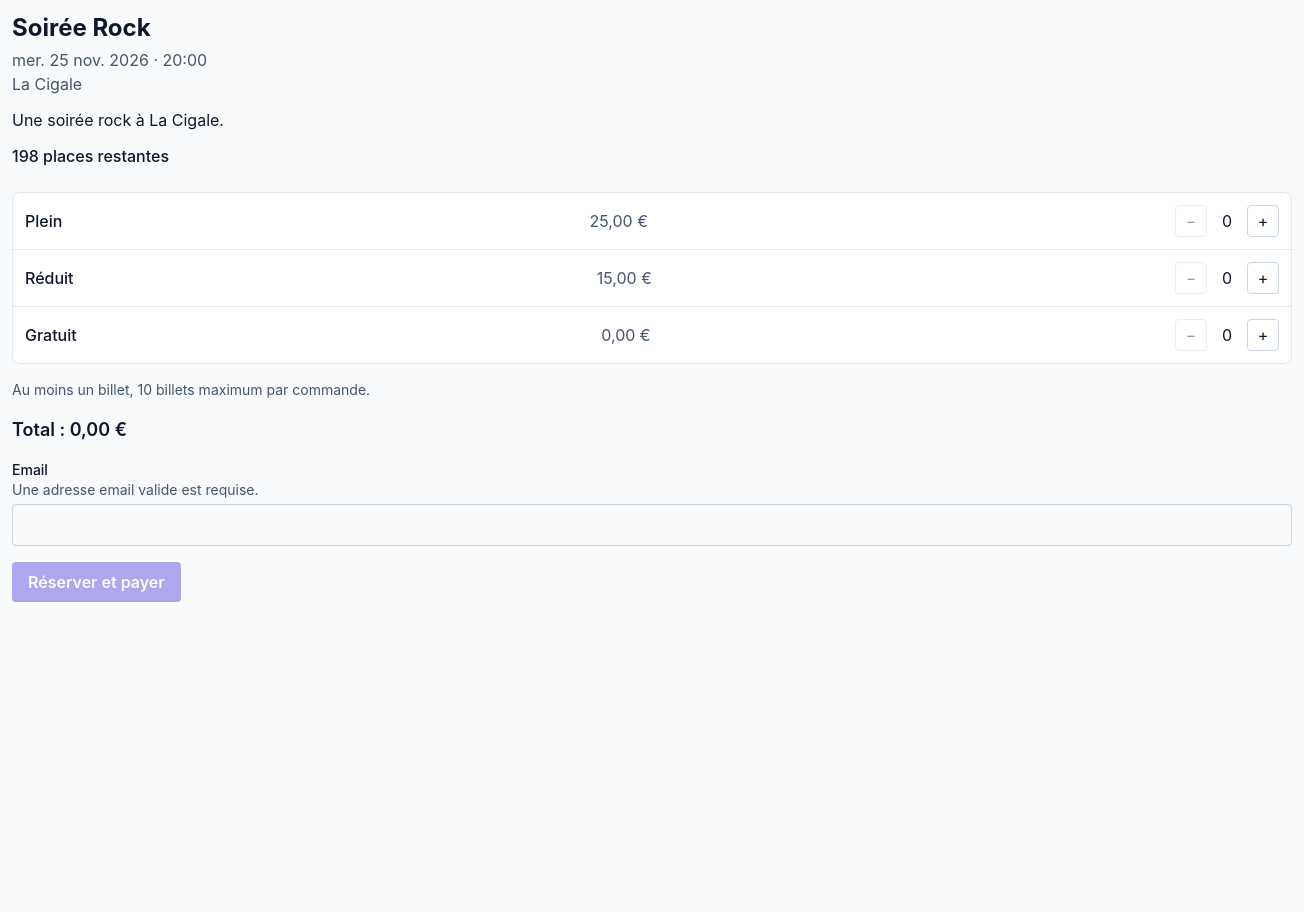
Scenario: EventPage › shows a validation violation under the email field
This screenshot has width=1304, height=912.
Expected: the heading "Soirée Rock" is shown, 12,13 -> 151,42
Click the button named "Ajouter un billet Plein": x=1263, y=221 1247,205 -> 1279,237
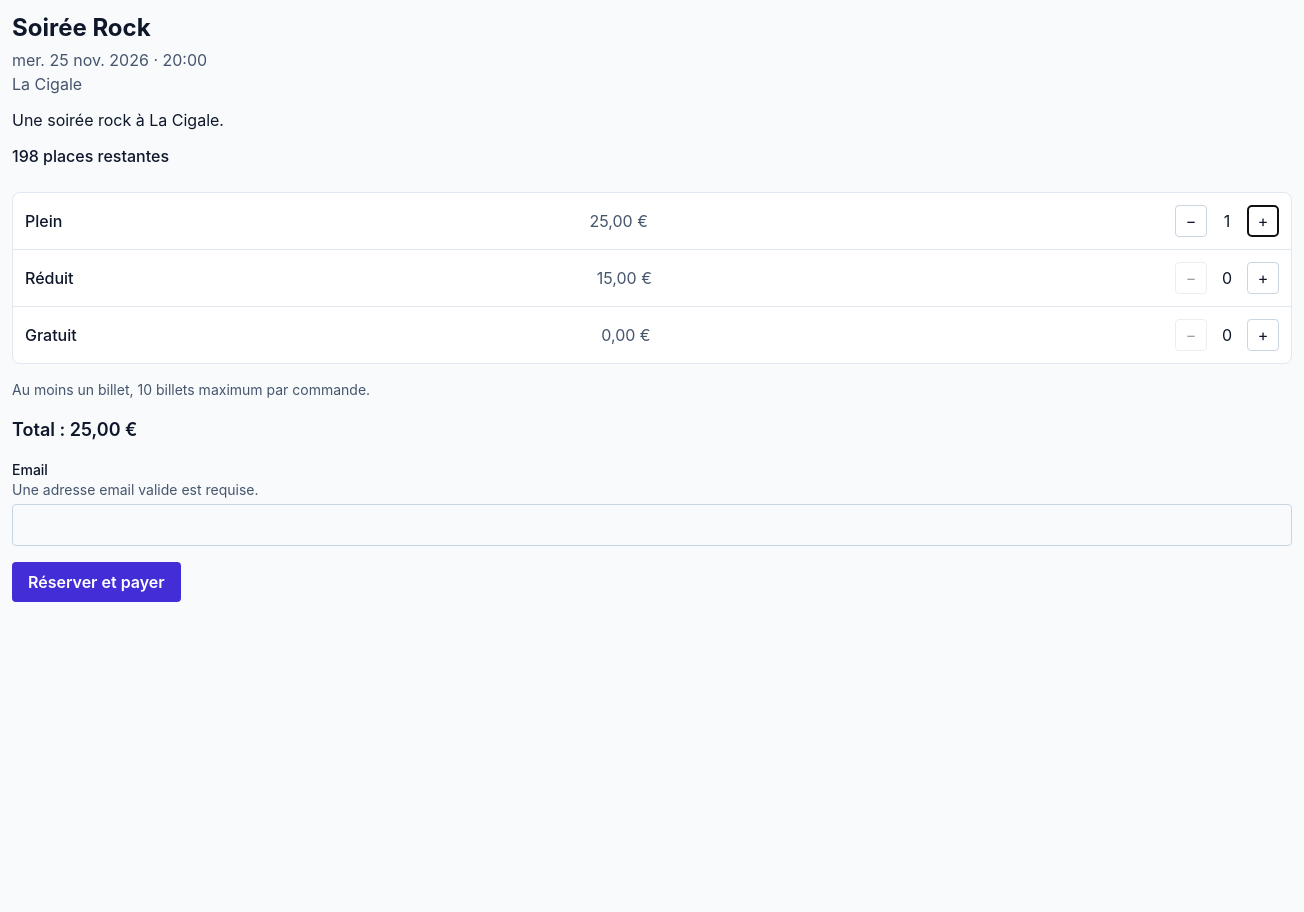
In the field labelled "Email": x=652, y=525 12,504 -> 1292,546, type "nope"
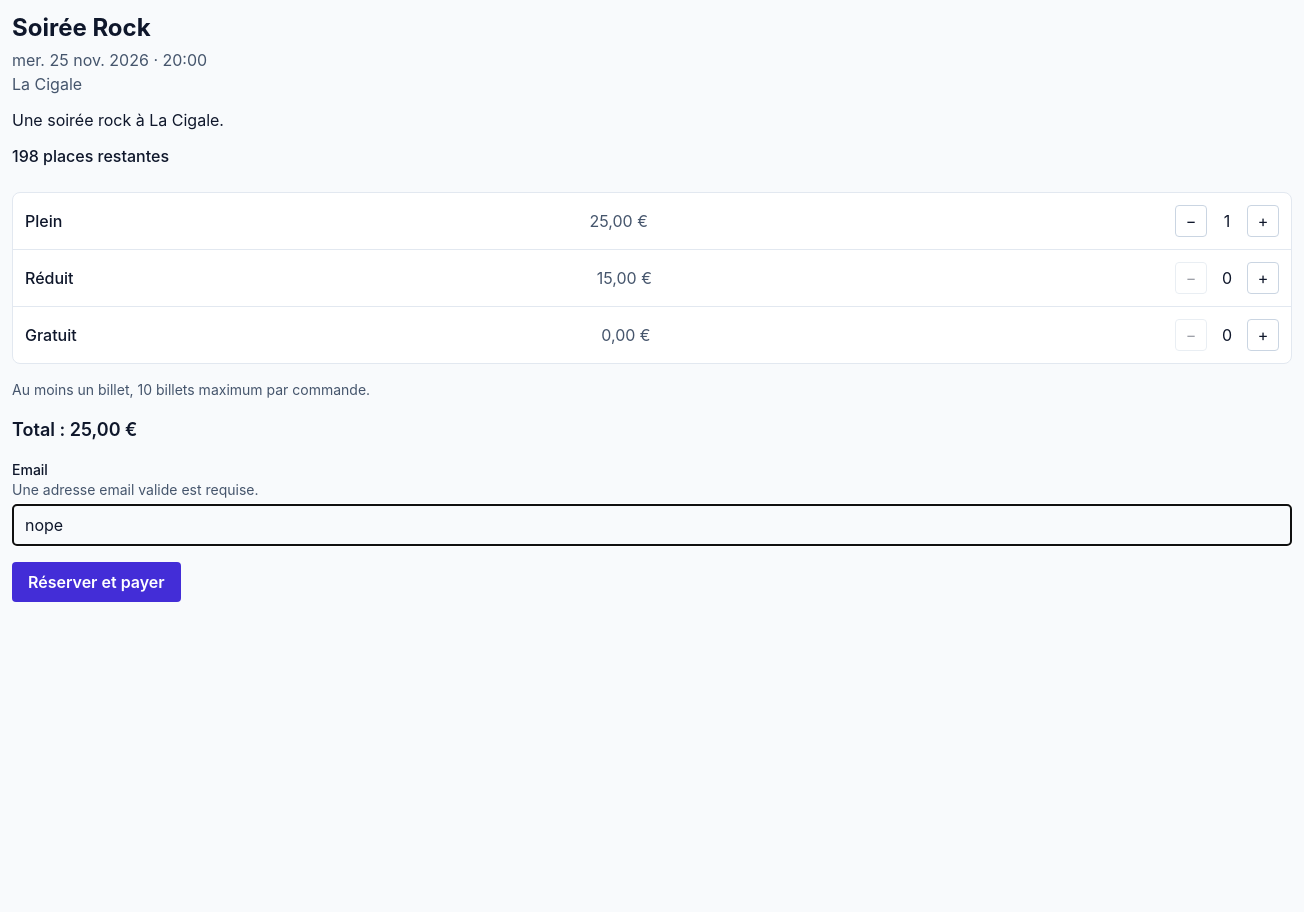
Click the button "Réserver et payer": x=96, y=582 12,562 -> 181,602
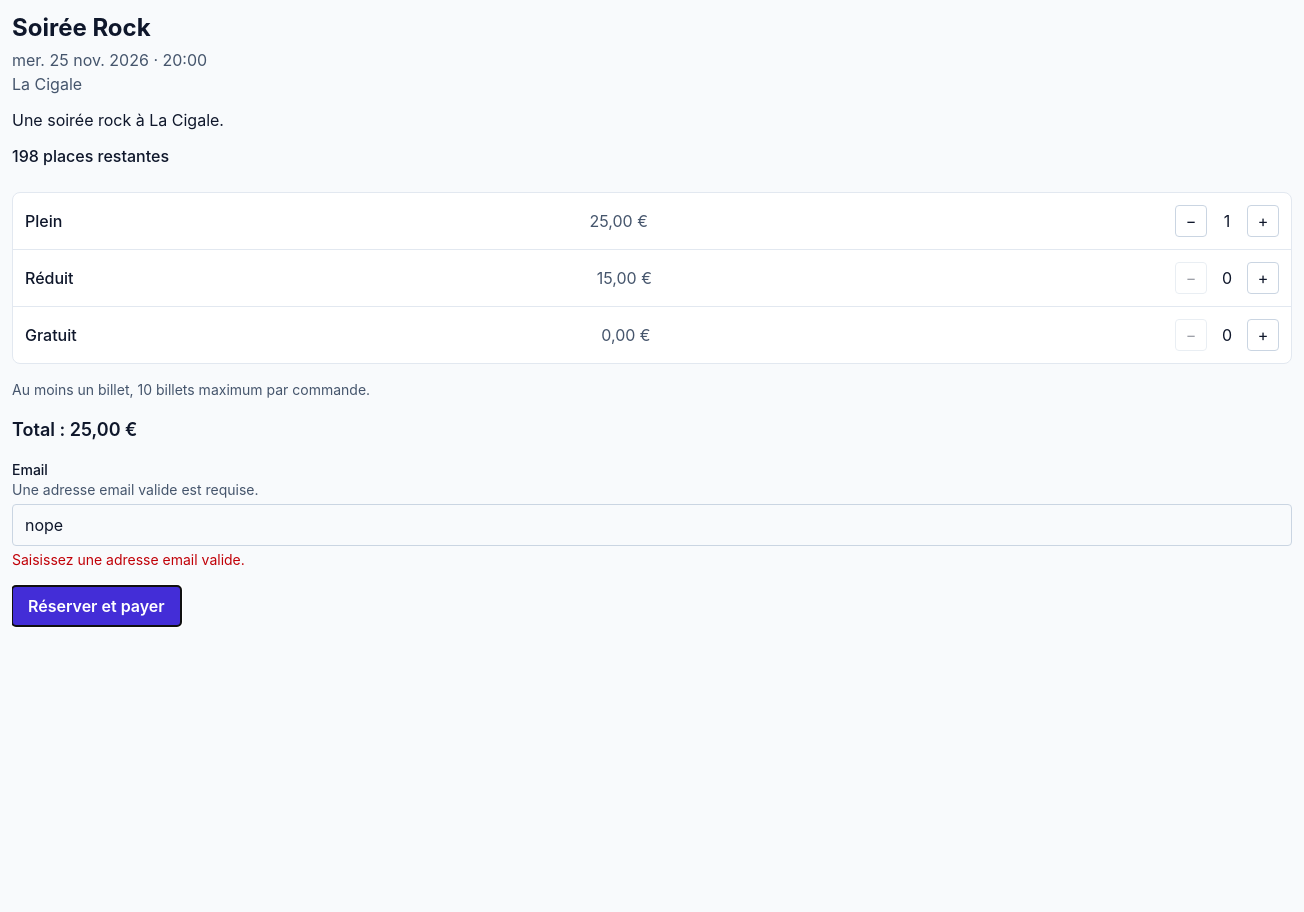
Result: the button "Réserver et payer" is enabled at 12,586 -> 181,626
Result: the text "Saisissez une adresse email valide." is shown at 12,551 -> 245,568
